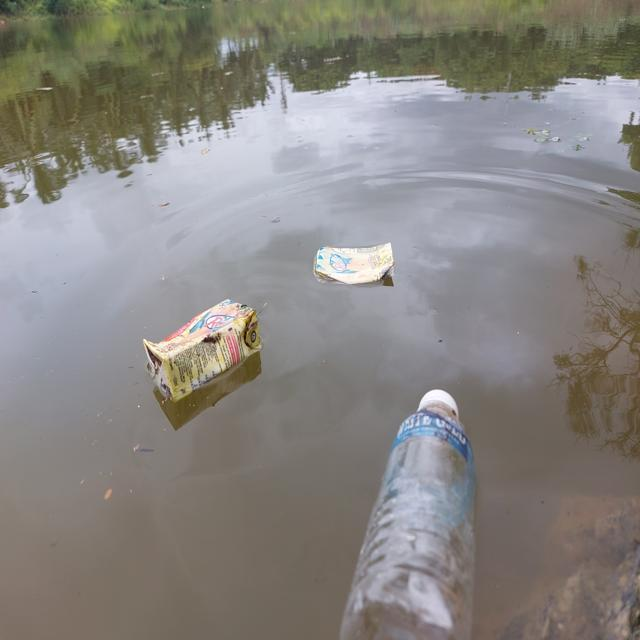paper: (123, 250, 265, 398), (290, 247, 413, 291)
waterbottle: (329, 365, 476, 640)
